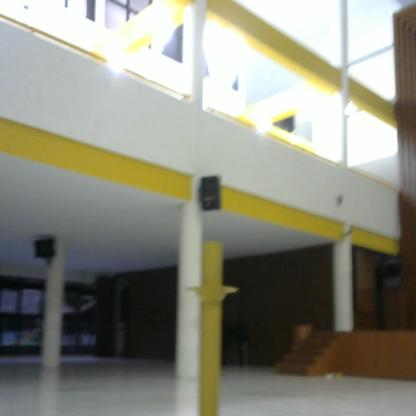pole: (185, 236, 246, 416)
